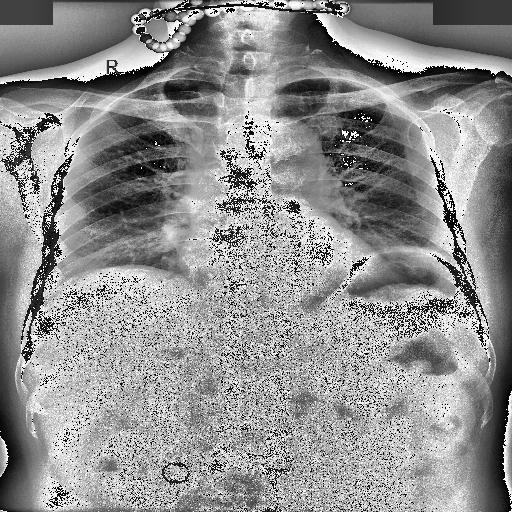0- Aortic enlargement: (250, 116, 327, 190), (244, 115, 323, 181), (250, 116, 326, 180)
11- Pleural thickening: (166, 72, 204, 90), (158, 79, 215, 90)
3- Cardiomegaly: (178, 237, 378, 290)
9- Other lesion: (327, 244, 463, 296)
